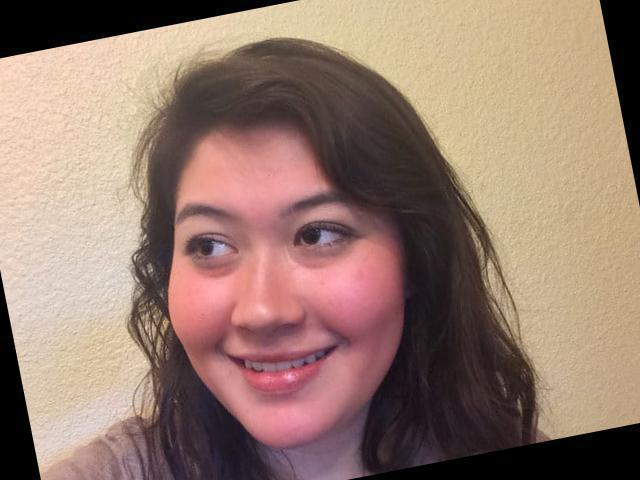Drunk: (174, 155, 400, 441)
